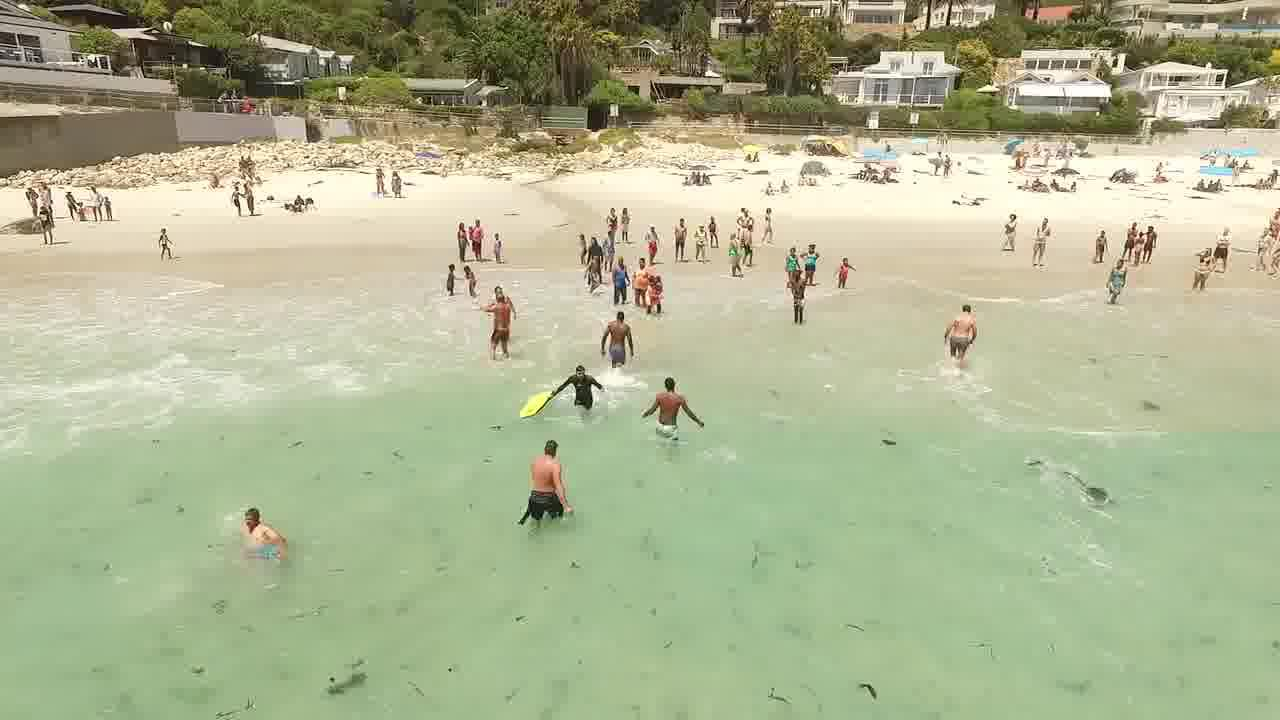human: (526, 436, 570, 518), (224, 487, 278, 547), (949, 300, 987, 364), (478, 289, 519, 348), (651, 383, 693, 428), (1096, 258, 1133, 302), (782, 276, 816, 323), (597, 311, 621, 364), (436, 257, 462, 300), (570, 359, 593, 404), (611, 255, 628, 311), (649, 269, 668, 314), (635, 254, 647, 302)
